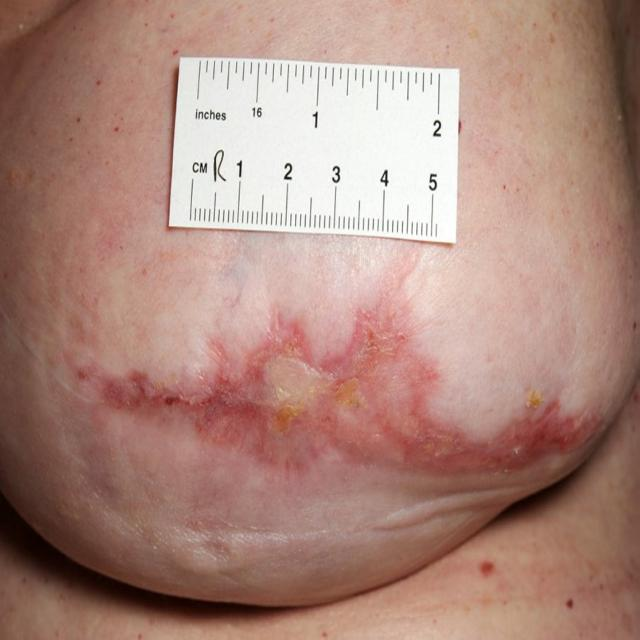wound: (96, 309, 600, 509)
